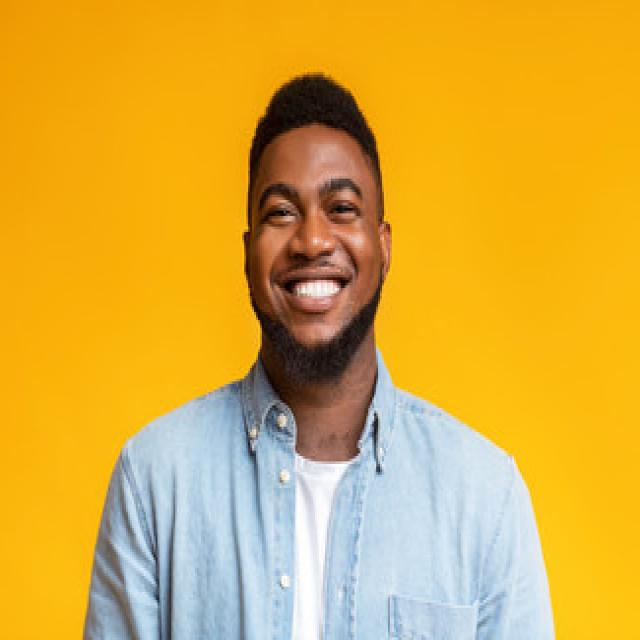person-without-mask: (94, 58, 564, 640)
